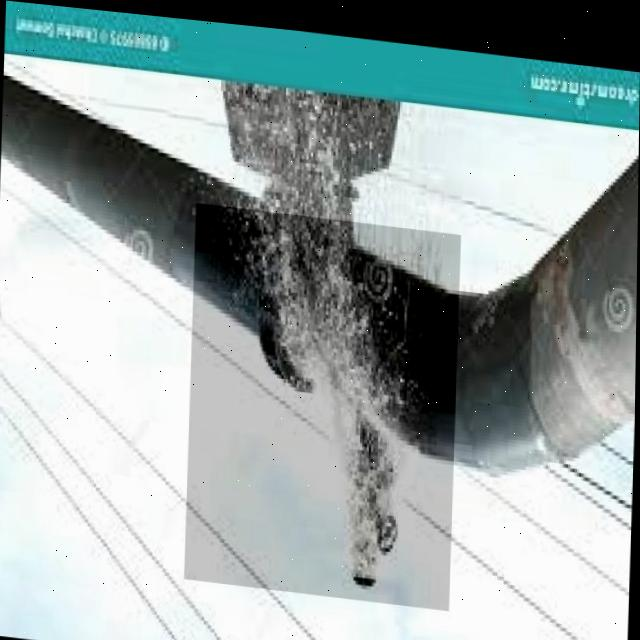corrosion: (217, 222, 458, 608)
